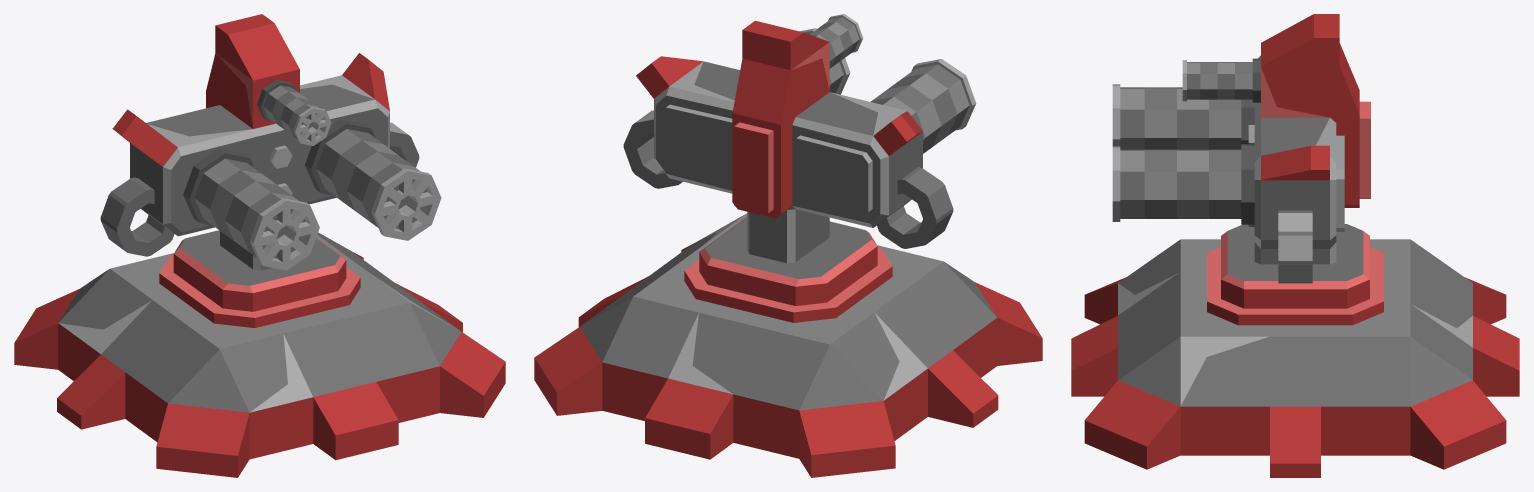
File: tower_gatling_red_3.fbx
3 views of the same model, side by side, from view 1: azimuth 30°, elevation 25°; view 2: azimuth 150°, elevation 25°; view 3: azimuth 270°, elevation 25° (orthographic). The views are drawn at different scales.
Parts seen in each view (by area): view 1: tower_gatling_red_3, top_gatling_red_3; view 2: tower_gatling_red_3, top_gatling_red_3; view 3: tower_gatling_red_3, top_gatling_red_3.
Boxes of the visible parts, x1=… form: tower_gatling_red_3: x1=14, y1=232, x2=505, y2=477; top_gatling_red_3: x1=100, y1=14, x2=441, y2=327; tower_gatling_red_3: x1=534, y1=213, x2=1042, y2=477; top_gatling_red_3: x1=623, y1=14, x2=976, y2=322; tower_gatling_red_3: x1=1071, y1=239, x2=1519, y2=477; top_gatling_red_3: x1=1112, y1=14, x2=1383, y2=325.
Size of the model in its own units: 173 by 146 by 168.
